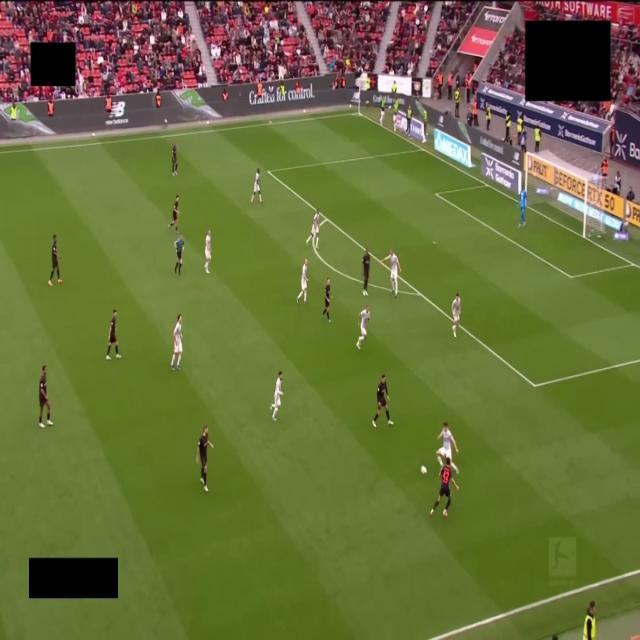ball: (421, 465, 426, 474)
player: (430, 458, 459, 518), (372, 374, 394, 428), (196, 425, 213, 492), (437, 422, 458, 472), (382, 250, 401, 297), (39, 366, 52, 428), (48, 235, 62, 287), (106, 309, 120, 359), (270, 371, 283, 420), (356, 305, 370, 349), (171, 315, 182, 369), (307, 210, 320, 248), (297, 259, 307, 303), (168, 195, 179, 232), (251, 168, 262, 203), (362, 248, 370, 295), (452, 294, 460, 337), (322, 279, 330, 322), (519, 189, 527, 227), (205, 230, 211, 273), (172, 144, 177, 175)
referee: (174, 235, 184, 275)
